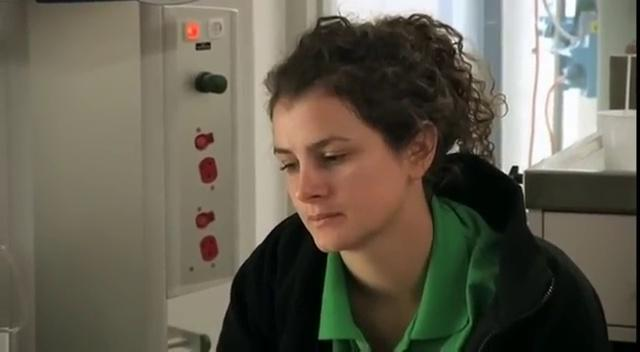nurse: (213, 11, 612, 351)
